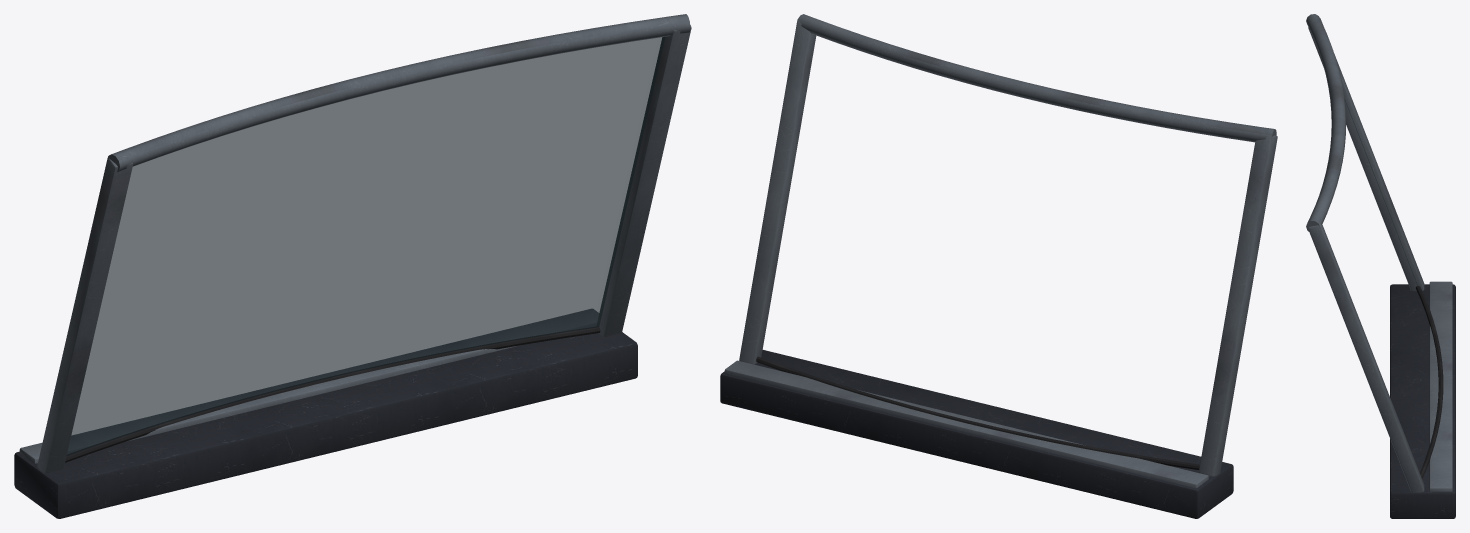
File: windshield.glb
The picture shows the model from 3 angles, left to right: view 1: azimuth 30°, elevation 25°; view 2: azimuth 150°, elevation 25°; view 3: azimuth 270°, elevation 25°; orthographic projection. The views are drawn at different scales.
Parts seen in each view (by area): view 1: WindshieldMesh; view 2: WindshieldMesh; view 3: WindshieldMesh.
Boxes of the visible parts, x1,y1,x2,y2 form: WindshieldMesh: (14,14,691,518); WindshieldMesh: (720,14,1277,518); WindshieldMesh: (1306,14,1455,518).
Bounding box in the file's own units: 1.5 × 0.9929 × 0.4534.
6 materials, 4 textured.
